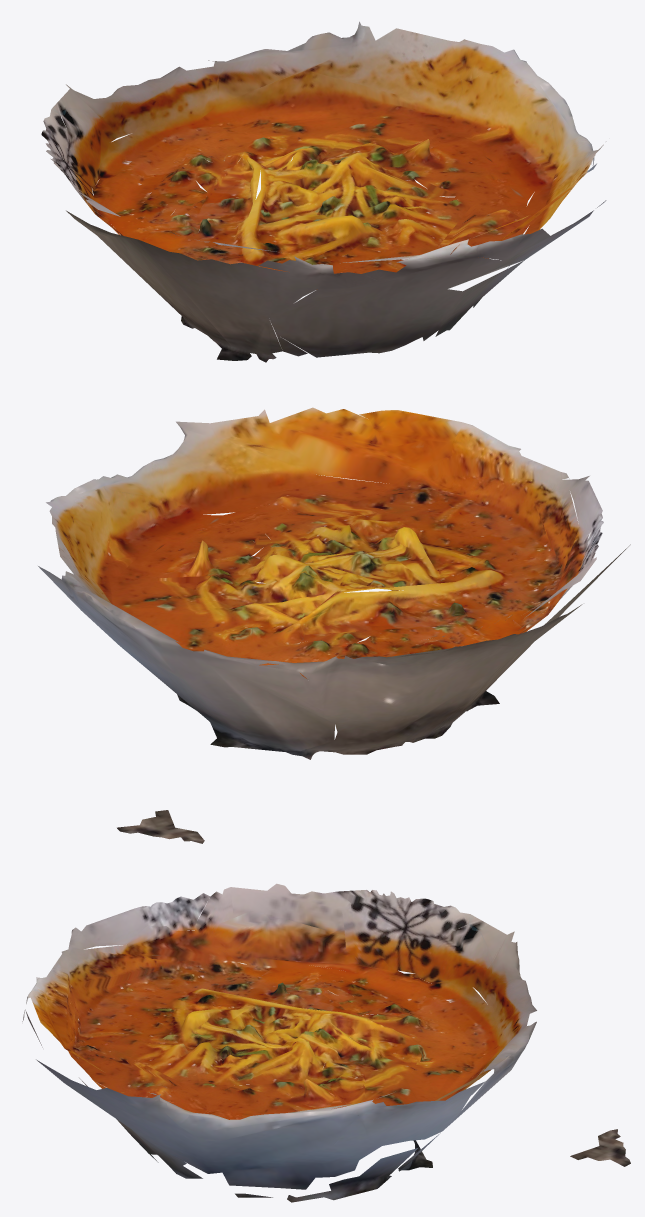
The model's file is Chourba Fixed 2.glb.
The picture shows the model from 3 angles, top to bottom: view 1: azimuth 30°, elevation 25°; view 2: azimuth 150°, elevation 25°; view 3: azimuth 270°, elevation 25°; orthographic projection. The views are drawn at different scales.
Visible parts, largest first — view 1: Object_4; view 2: Object_4; view 3: Object_4.
Part boxes in pixels (x1,y1,x2,y2): Object_4: (41, 21, 606, 362); Object_4: (38, 407, 630, 843); Object_4: (22, 883, 630, 1202).
Bounding box in the file's own units: 0.7431 × 0.2437 × 0.8433.
1 material, 1 textured.
